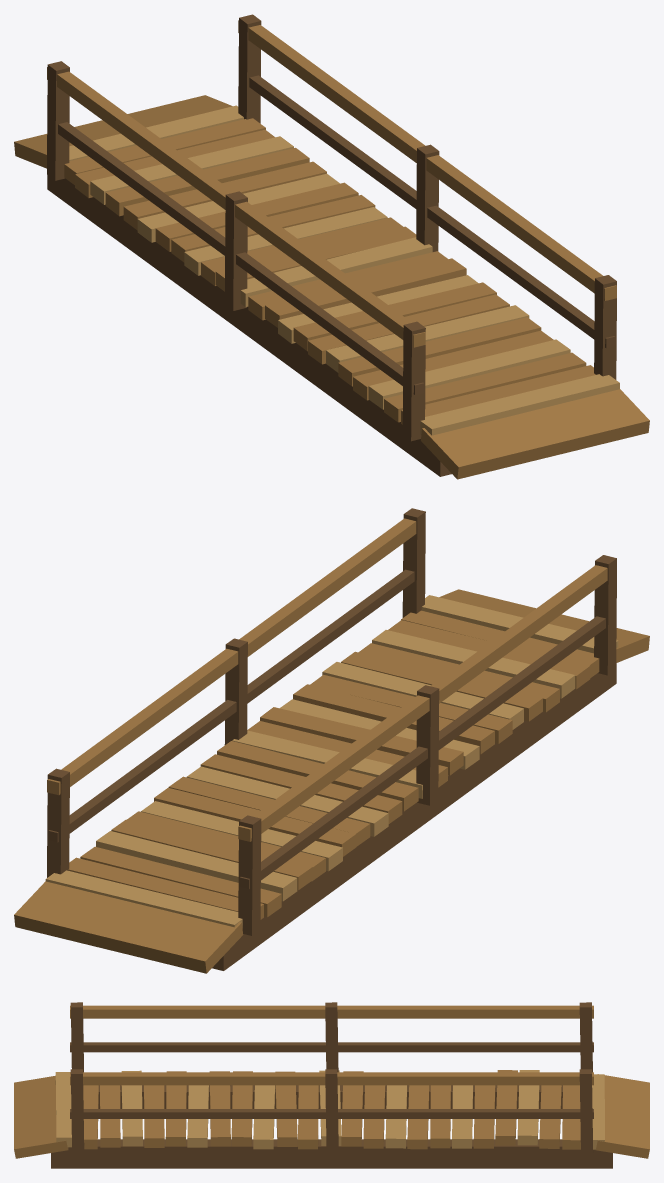
File: SM_BridgeIntact.fbx
3 views of the same model, one above another, from view 1: azimuth 30°, elevation 25°; view 2: azimuth 150°, elevation 25°; view 3: azimuth 270°, elevation 25° (orthographic). The views are drawn at different scales.
Parts seen in each view (by area): view 1: SM_BridgeIntact; view 2: SM_BridgeIntact; view 3: SM_BridgeIntact.
Part boxes in pixels (x1,y1,x2,y2): SM_BridgeIntact: [14, 14, 649, 479]; SM_BridgeIntact: [14, 508, 649, 973]; SM_BridgeIntact: [14, 1002, 649, 1168].
Bounding box in the file's own units: 2.23 × 8.37 × 1.45.
